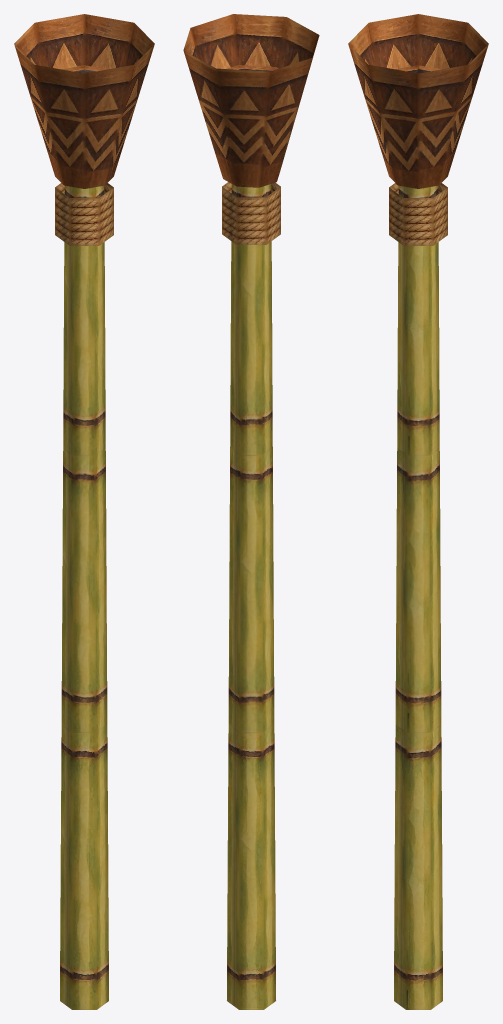
Rendered from torch.glb.
3 renders of one model, left to right at view 1: azimuth 90°, elevation 25°; view 2: azimuth 150°, elevation 25°; view 3: azimuth 270°, elevation 25°, orthographic.
Parts seen in each view (by area): view 1: GEO-torch; view 2: GEO-torch; view 3: GEO-torch.
Part boxes in pixels (x1,y1,x2,y2): GEO-torch: [14, 14, 154, 1009]; GEO-torch: [183, 14, 319, 1009]; GEO-torch: [348, 14, 488, 1009].
Size of the model in its own units: 0.24 by 1.8 by 0.24.
Materials: 1 (1 with a texture image).
